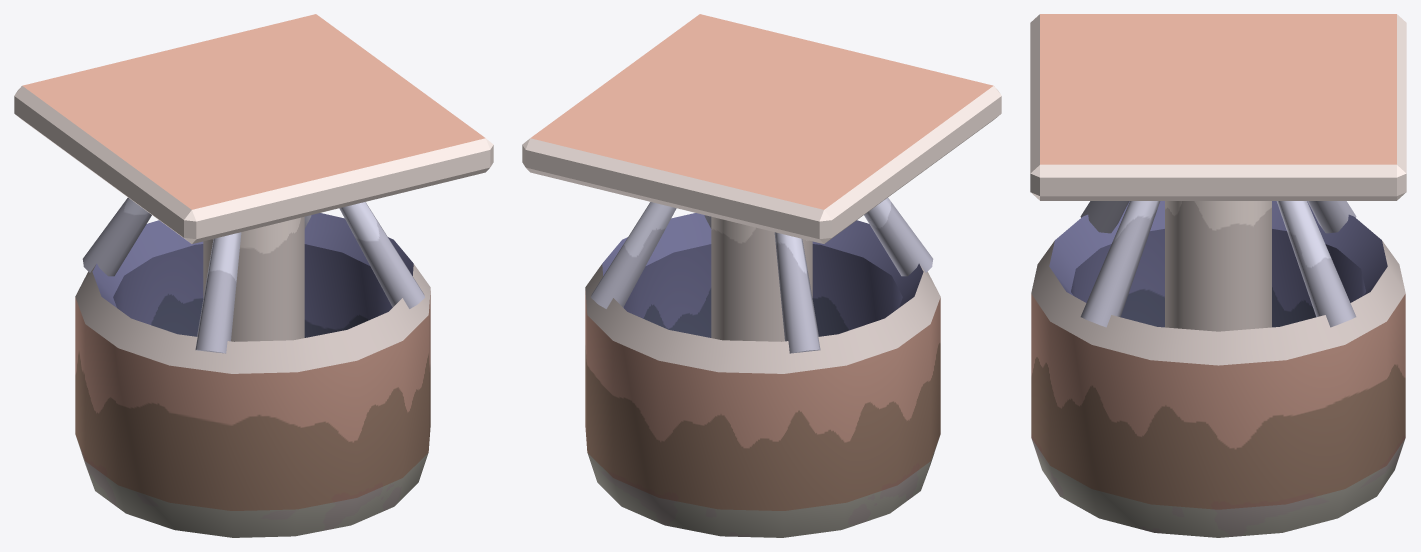
Rendered from R4M_HoverEngine_LOD1.glb.
3 views of the same model, side by side, from view 1: azimuth 30°, elevation 25°; view 2: azimuth 150°, elevation 25°; view 3: azimuth 270°, elevation 25° (orthographic). The views are drawn at different scales.
Visible parts, largest first — view 1: R4M_HoverEngine_LOD1; view 2: R4M_HoverEngine_LOD1; view 3: R4M_HoverEngine_LOD1.
Boxes of the visible parts, bbox=[...] form: R4M_HoverEngine_LOD1: bbox=[14, 14, 493, 537]; R4M_HoverEngine_LOD1: bbox=[522, 14, 1001, 537]; R4M_HoverEngine_LOD1: bbox=[1030, 14, 1406, 537].
Bounding box in the file's own units: 0.52 × 0.577 × 0.52.
5 materials, 4 textured.
